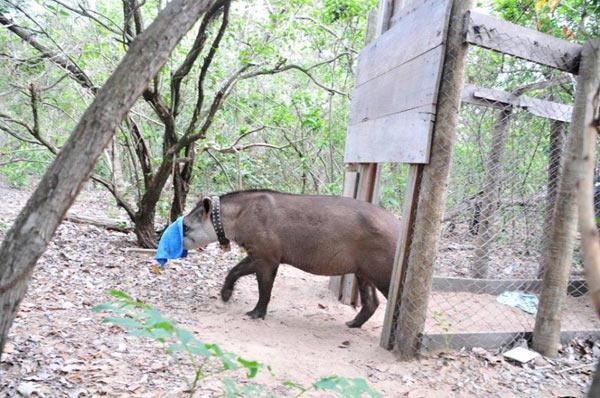Anta: (153, 186, 403, 326)
